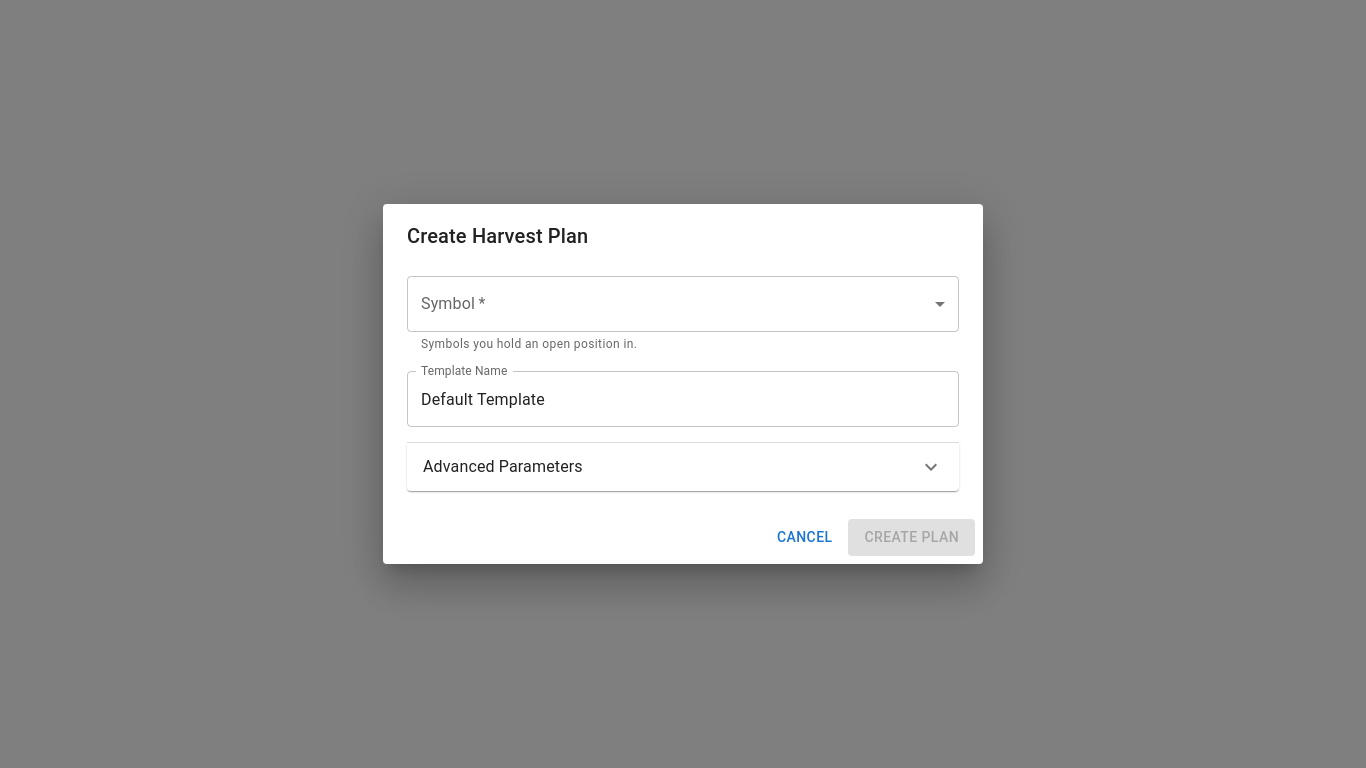
Test: CreatePlanDialog › keeps Create disabled until a symbol is picked
The width and height of the screenshot is (1366, 768).
Expected: the button "Create Plan" is disabled, [848,519,975,556]
Press the mouse on the dropdown at (683,304), box [407,276,959,332]
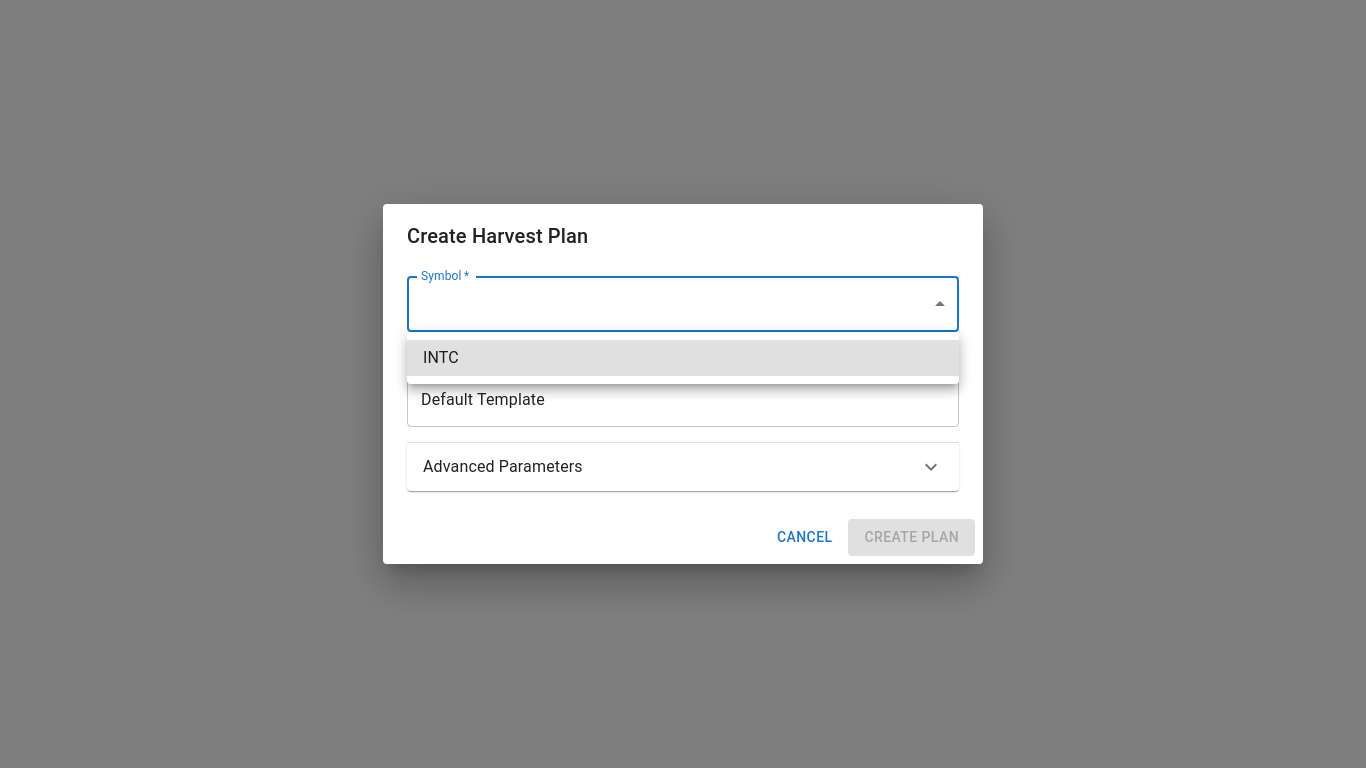
Click the option "INTC" at (441,358), box [407,340,959,376]
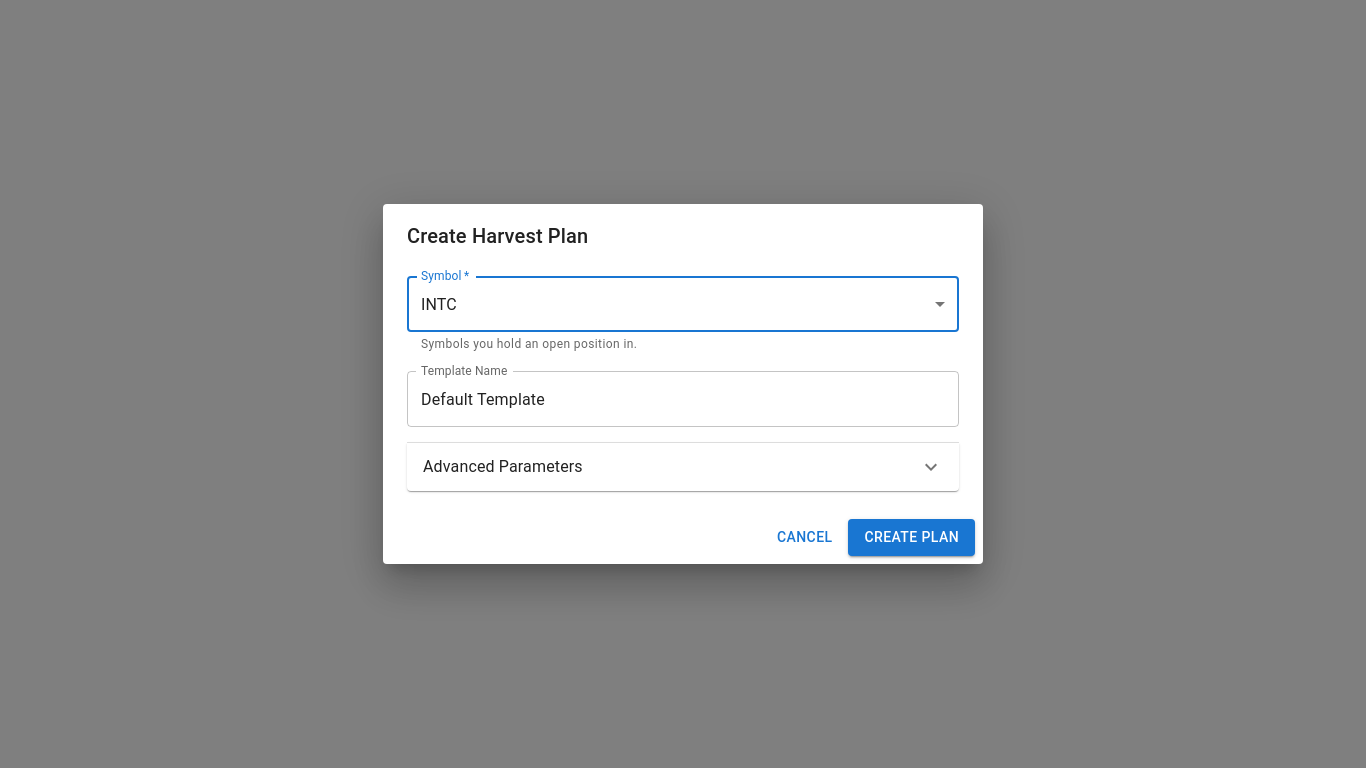
Now the button "Create Plan" is enabled, box [848,519,975,556]
